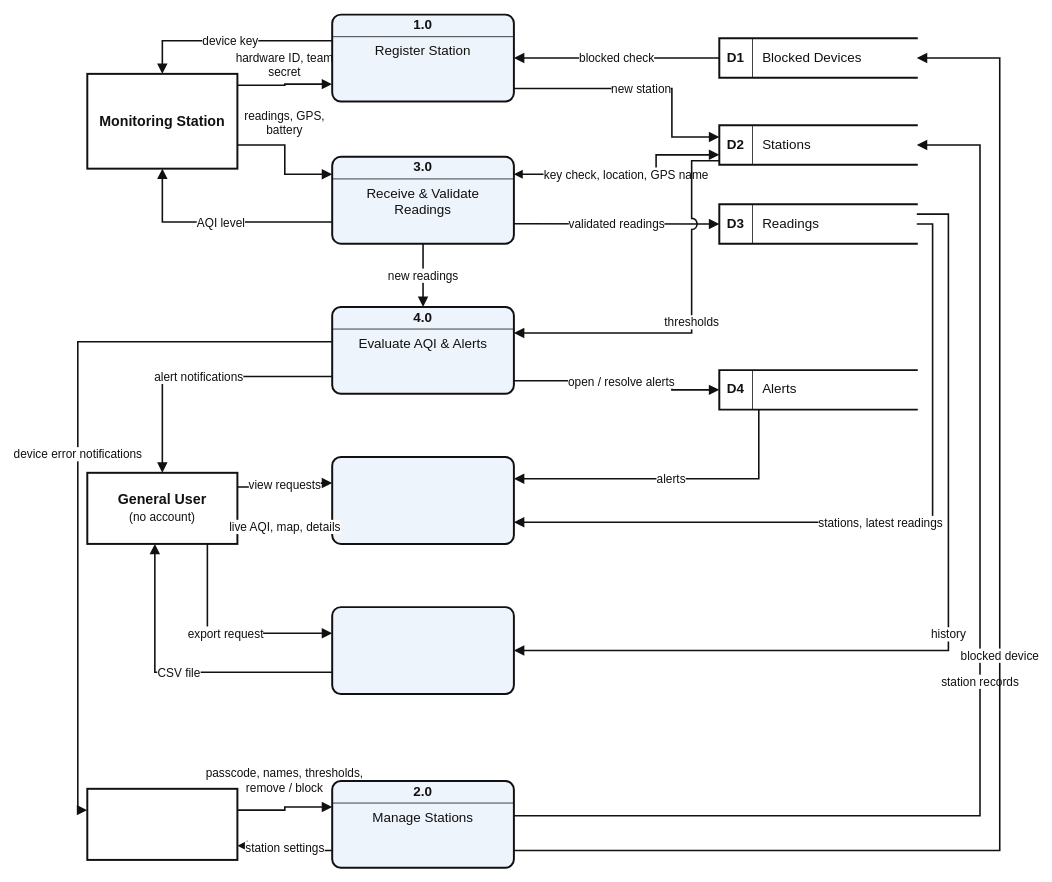
Image size: 1052x882. Some labels were removed from this diagram. Each missing label, with the centre of its shape:
5.0 Display Live Monitoring & Map: point 423,500
6.0 Export Data & Reports: point 423,650
Administrator: point 162,824
